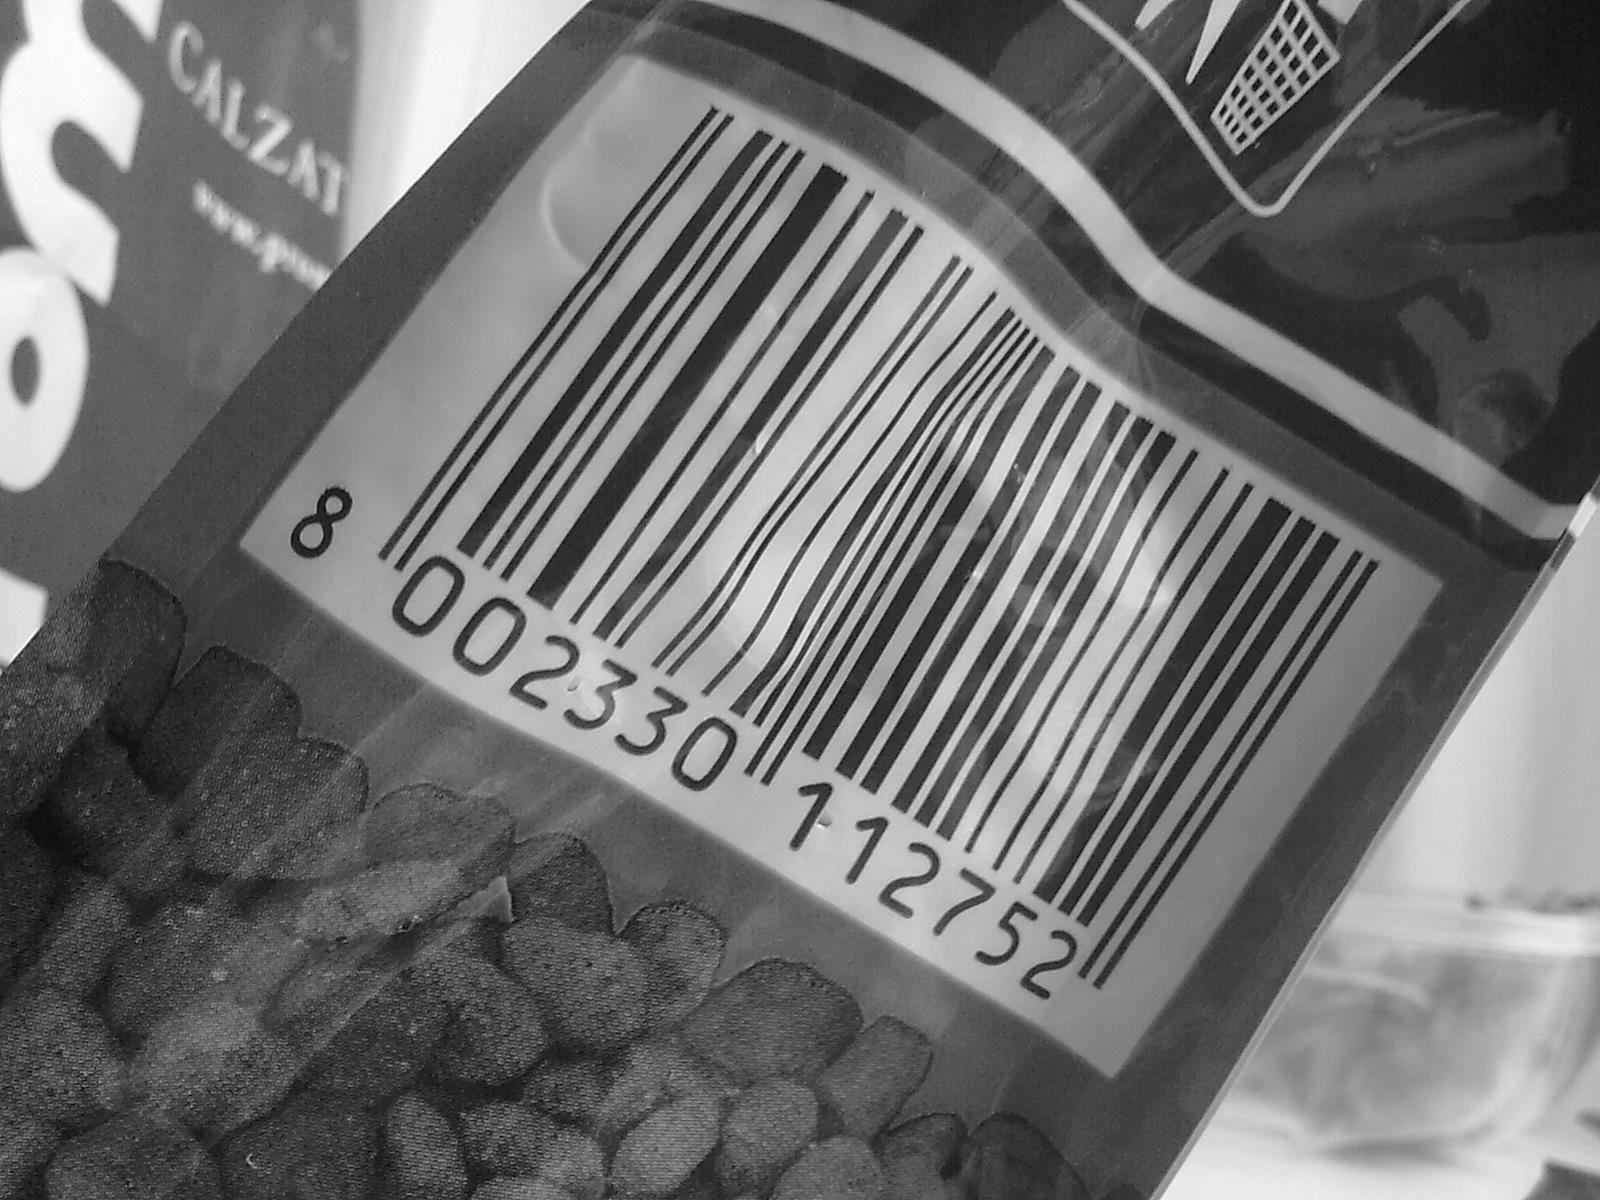Barcode: (343, 122, 1405, 997)
